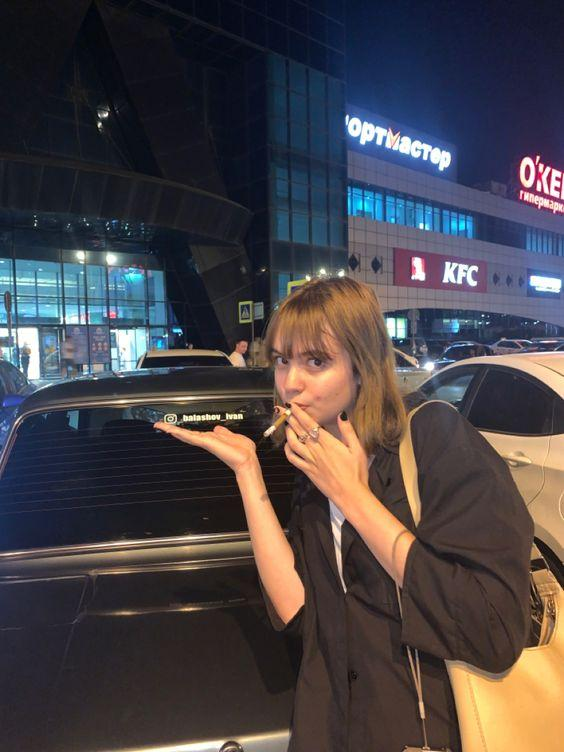cigarette: (263, 408, 292, 438)
